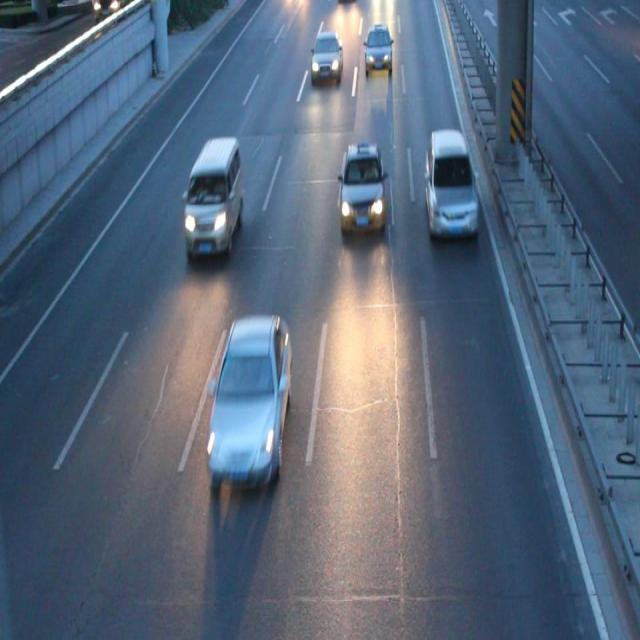car: (207, 315, 290, 491), (423, 129, 478, 237), (338, 143, 386, 236), (310, 33, 342, 81), (364, 26, 394, 75)
truck: (182, 136, 243, 259)
